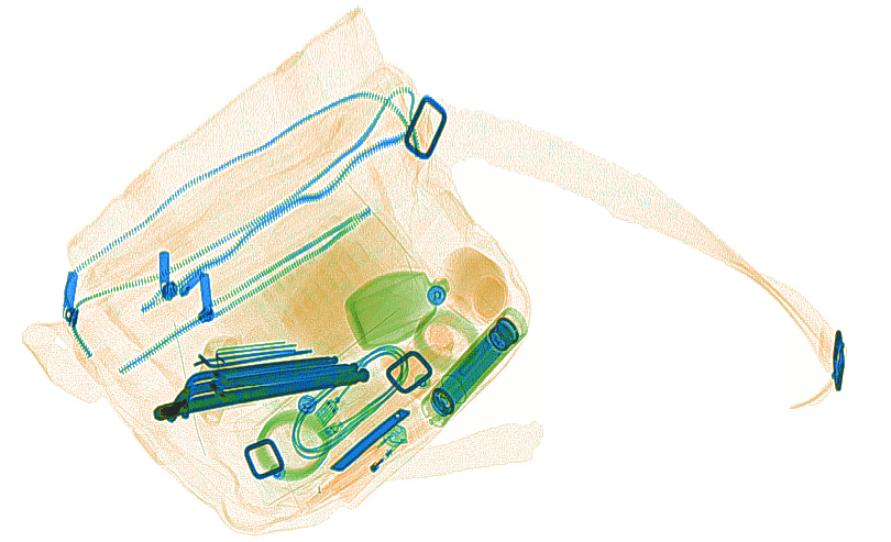battery: (438, 327, 511, 406)
knife: (326, 406, 411, 472)
lighter: (327, 421, 409, 503)
